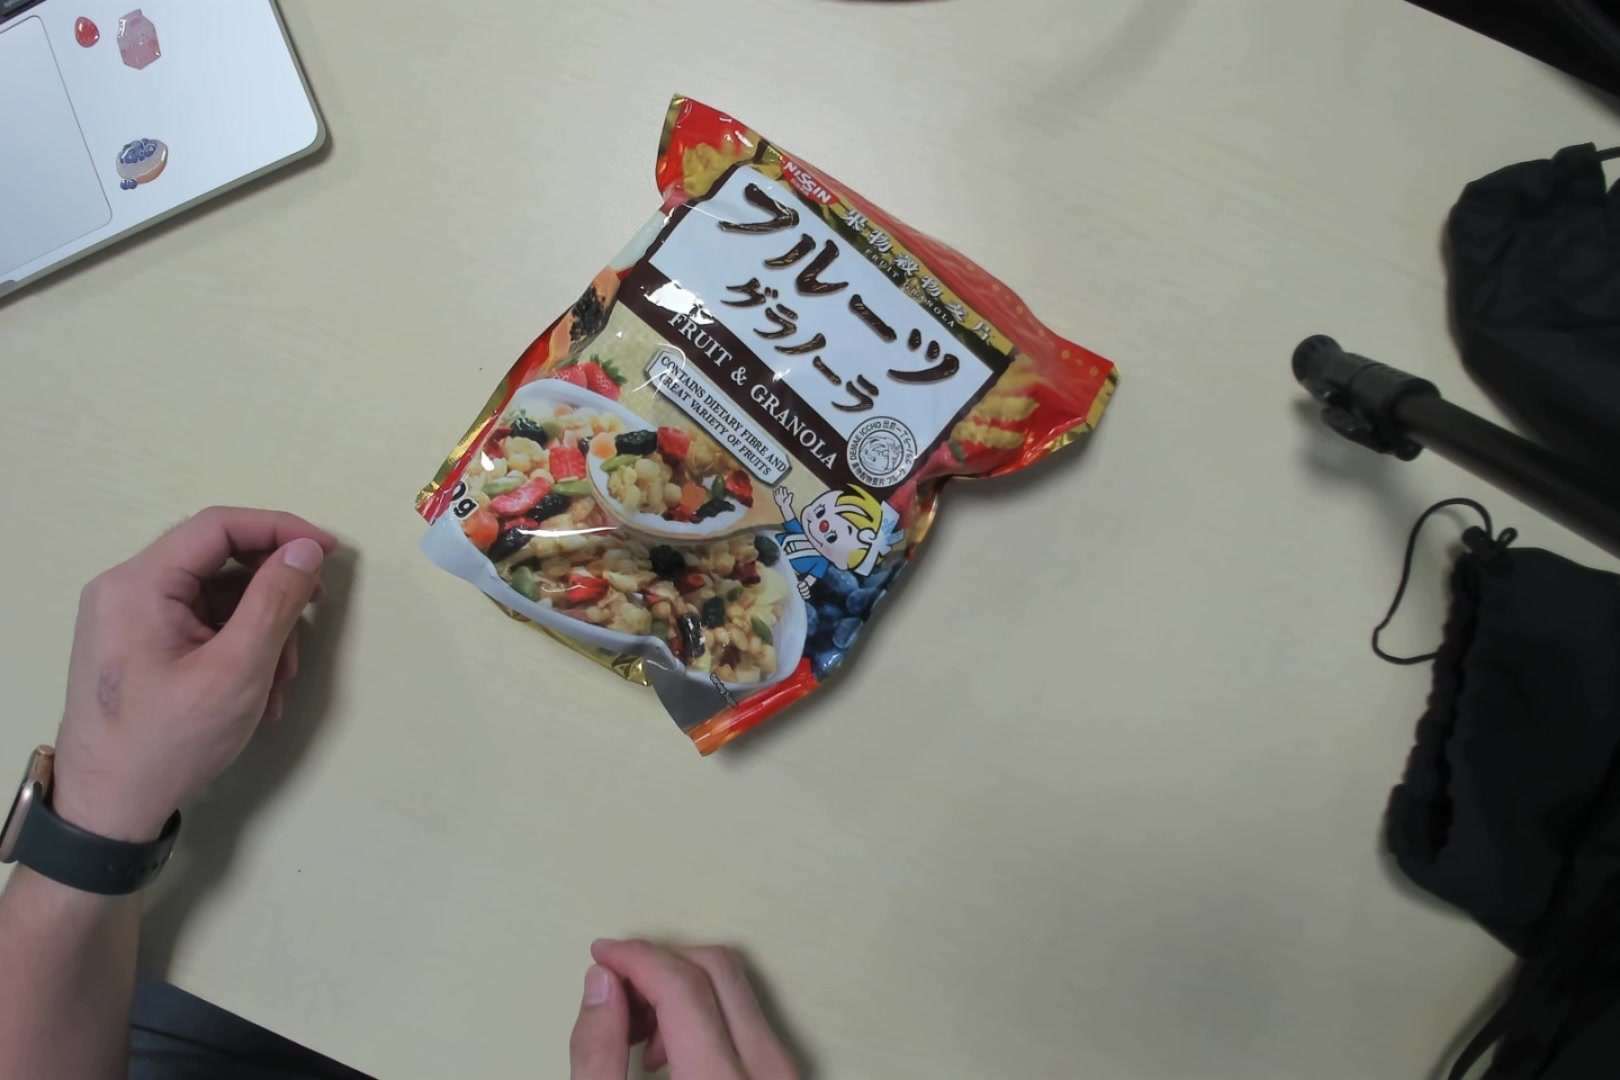BreakfastCereals_300-399g_NonHalal_NonHealthy: (425, 101, 1122, 758)
